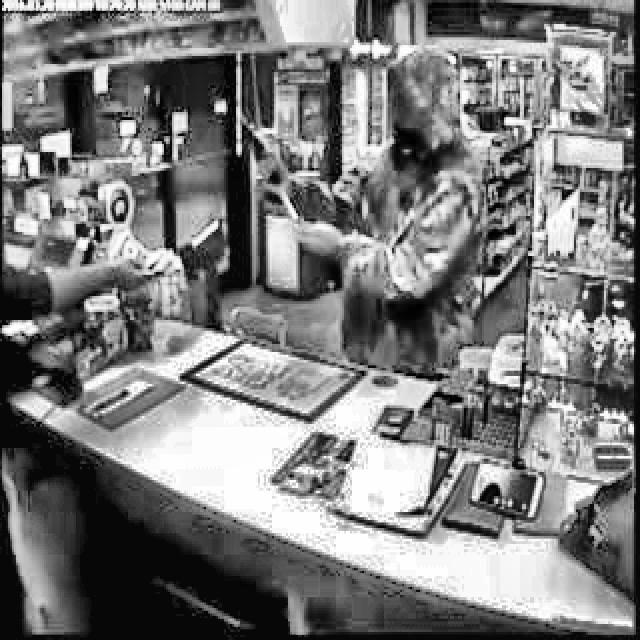robbery: (232, 51, 484, 374)
